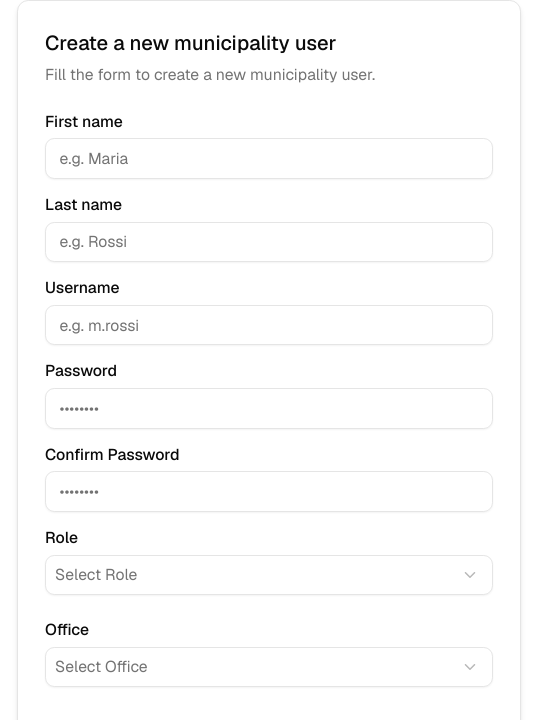
Scenario: MunicipalityUserForm › should set office to ORGANIZATION_OFFICE for ADMIN role
Step 1. Click the dropdown labelled "Select Role" → [96, 574], box top-left (45, 554), bottom-right (493, 595)
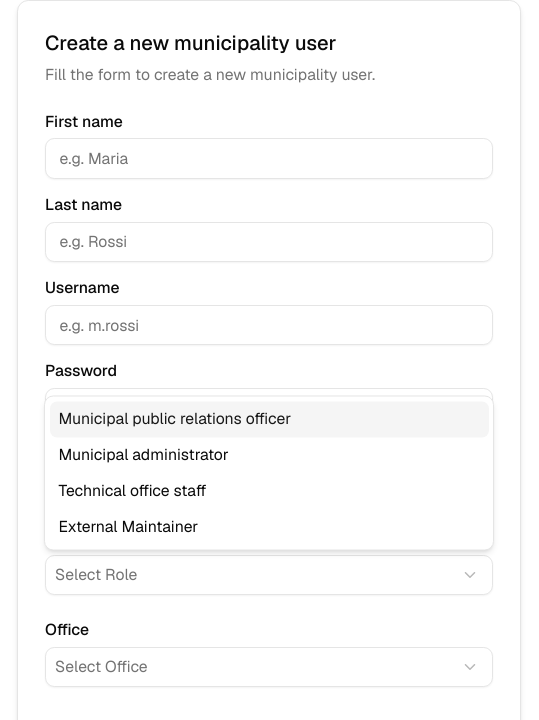
Step 2. Click the option "Municipal administrator" → [144, 454], box top-left (58, 444), bottom-right (229, 465)
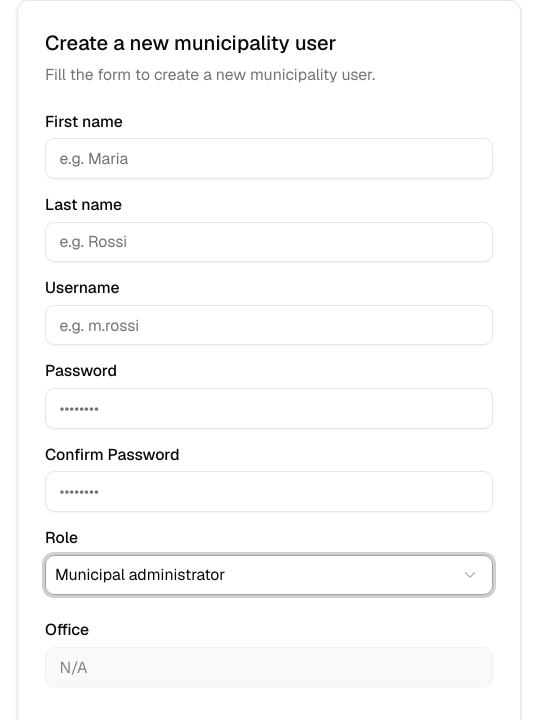
expect the field labelled "Office" is disabled: met, box top-left (45, 647), bottom-right (493, 687)
expect the field labelled "Office" holds "N/A": met, box top-left (45, 647), bottom-right (493, 687)
